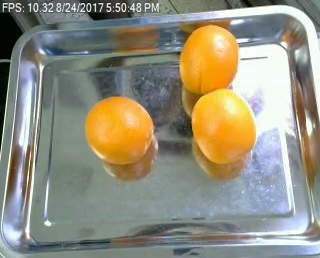Orange: (191, 88, 257, 164), (85, 97, 155, 164), (179, 23, 239, 94)
